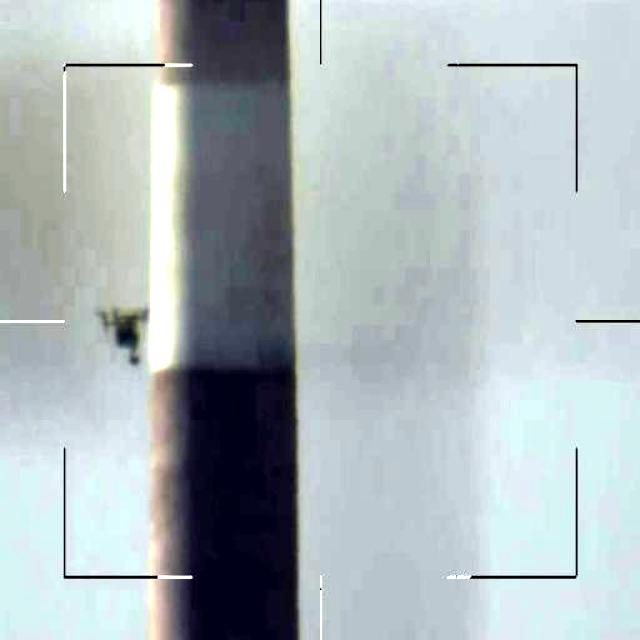bird: (110, 298, 171, 361)
